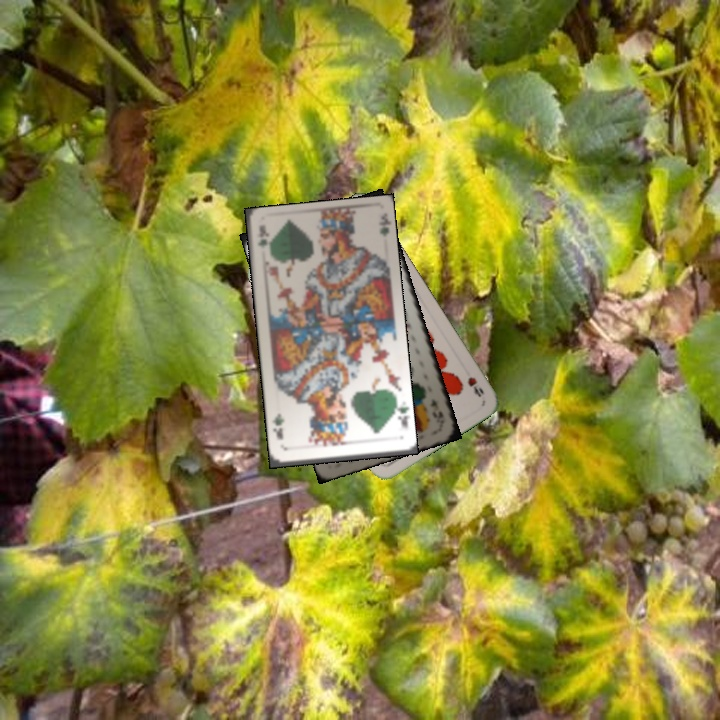EK: (426, 395, 444, 424)
GK: (389, 398, 410, 430), (254, 228, 271, 251)
H9: (464, 373, 486, 400)
